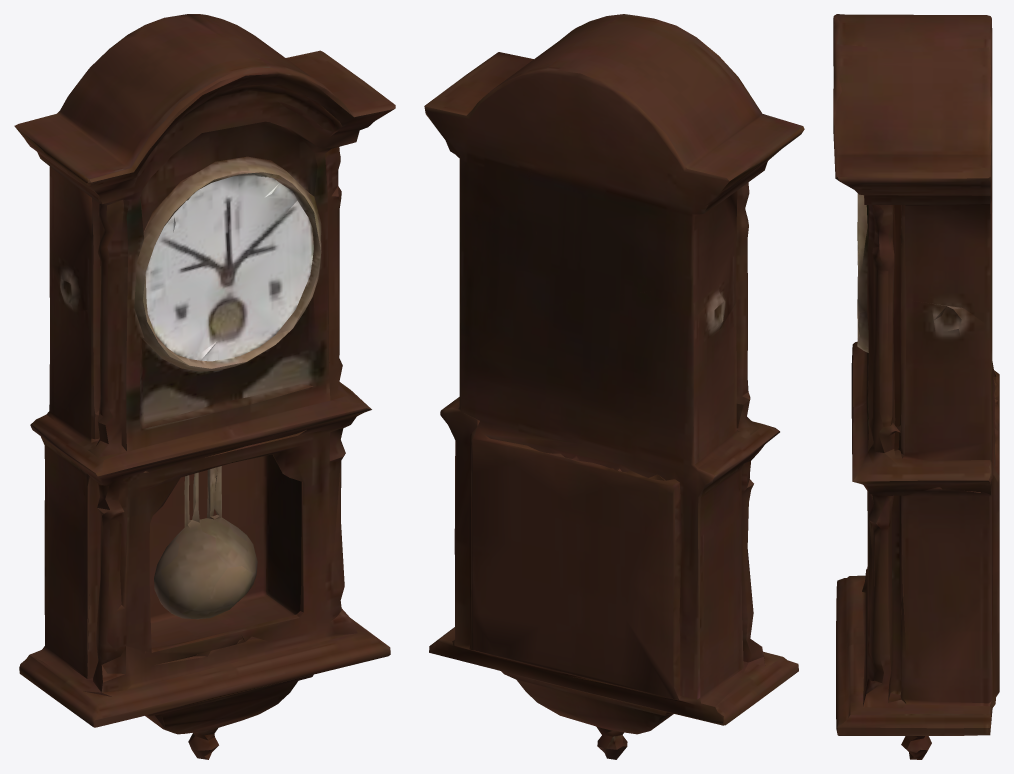
Rendered from clock.glb.
3 renders of one model, left to right at view 1: azimuth 30°, elevation 25°; view 2: azimuth 150°, elevation 25°; view 3: azimuth 270°, elevation 25°, orthographic. The views are drawn at different scales.
Parts seen in each view (by area): view 1: clock; view 2: clock; view 3: clock.
Boxes of the visible parts, bbox=[...] form: clock: bbox=[14, 14, 395, 759]; clock: bbox=[424, 14, 804, 759]; clock: bbox=[833, 14, 999, 759].
Size of the model in its own units: 0.3623 by 0.8 by 0.1649.
Materials: 1 (1 with a texture image).
